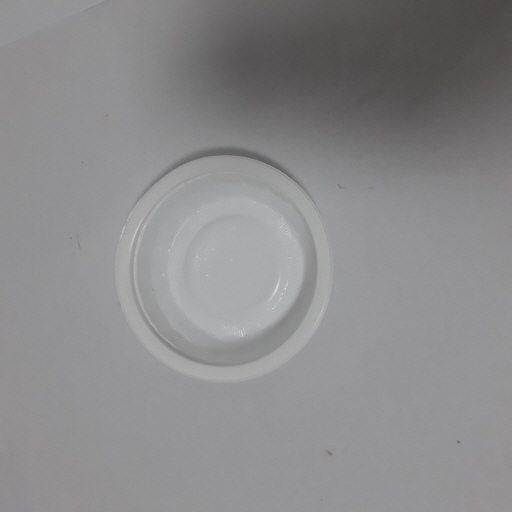Plastic_5: (111, 150, 334, 388)
